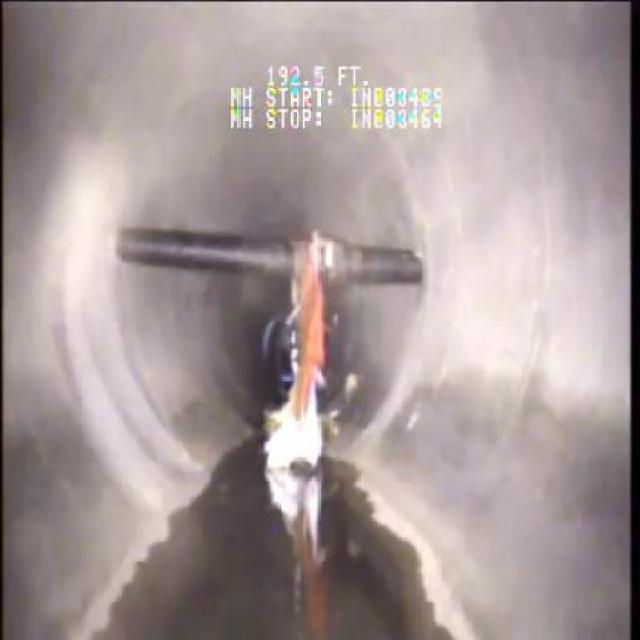Utility intrusion: (112, 222, 425, 290)
